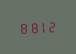eight: (28, 20, 37, 34), (18, 21, 27, 34)
one: (38, 19, 47, 33)
two: (48, 19, 57, 32)
